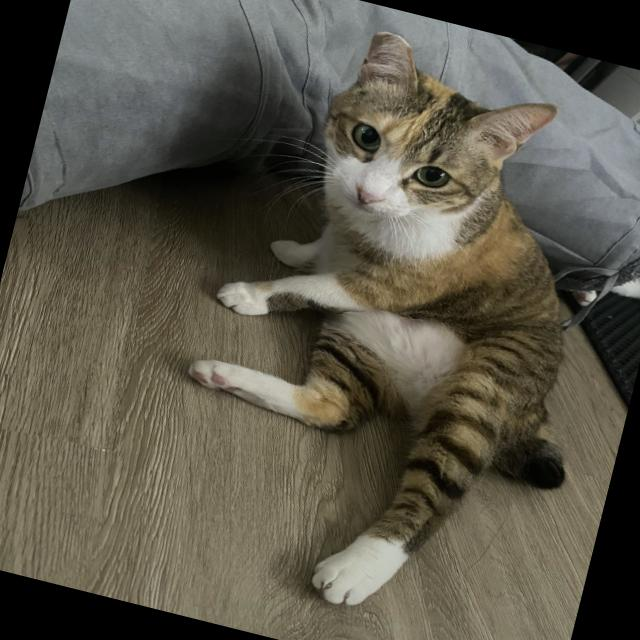cat2: (142, 1, 640, 640)
